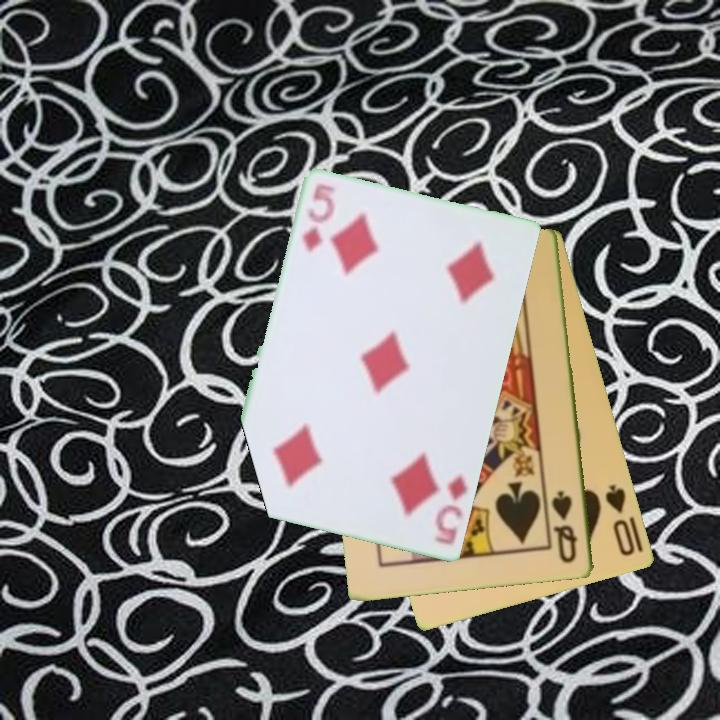10s: (602, 481, 639, 560)
5d: (431, 472, 472, 549), (299, 181, 336, 256)
Qs: (548, 487, 581, 567)
